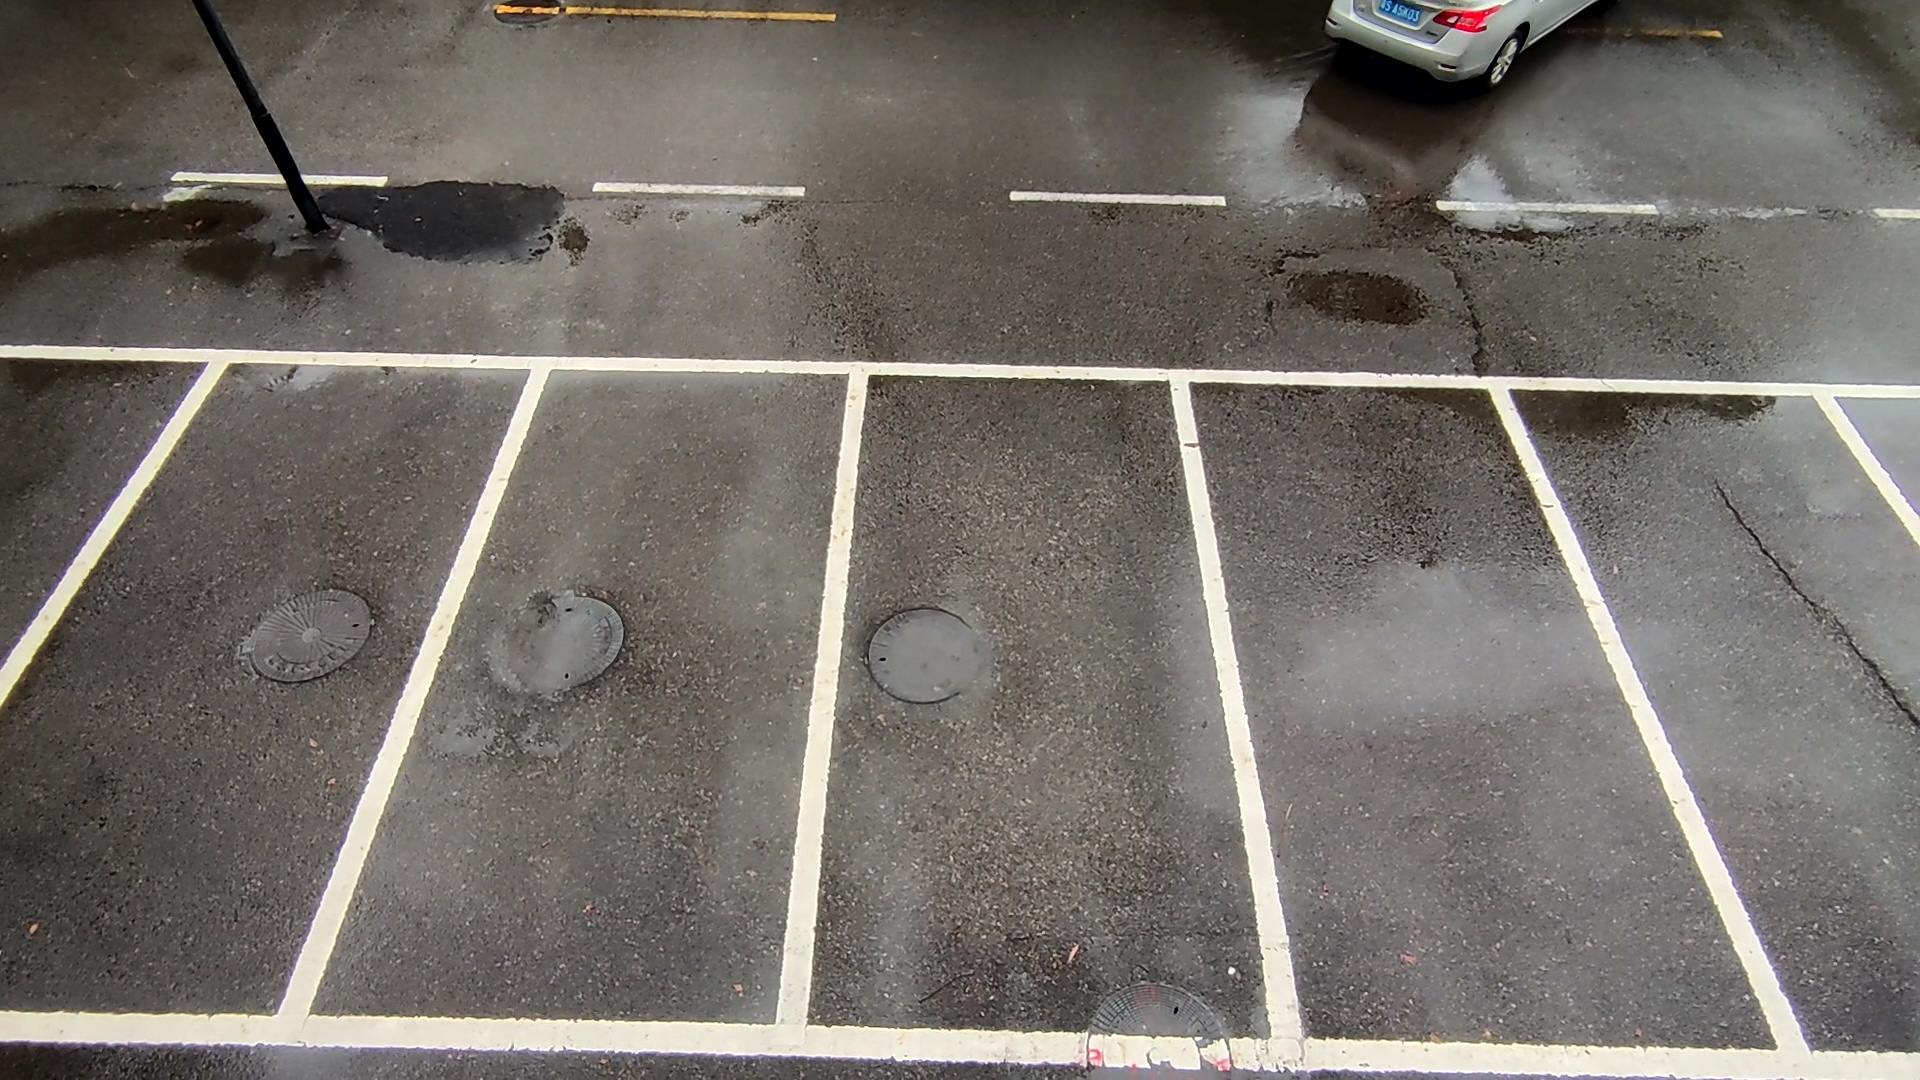space-empty: (1170, 367, 1818, 1069), (272, 343, 870, 1054), (774, 357, 1323, 1072)
